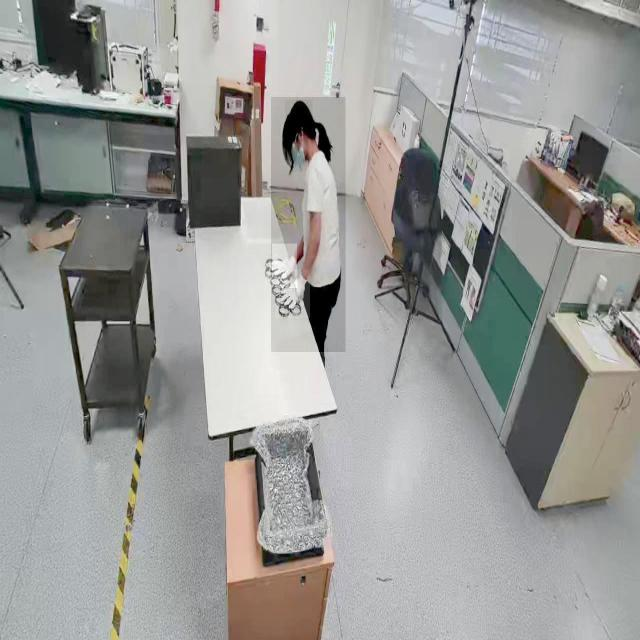face_mask: (290, 129, 308, 171)
hand_glove: (276, 269, 310, 319), (272, 244, 298, 288)
head_nohelmet: (285, 100, 313, 124)
person: (271, 97, 346, 353)
